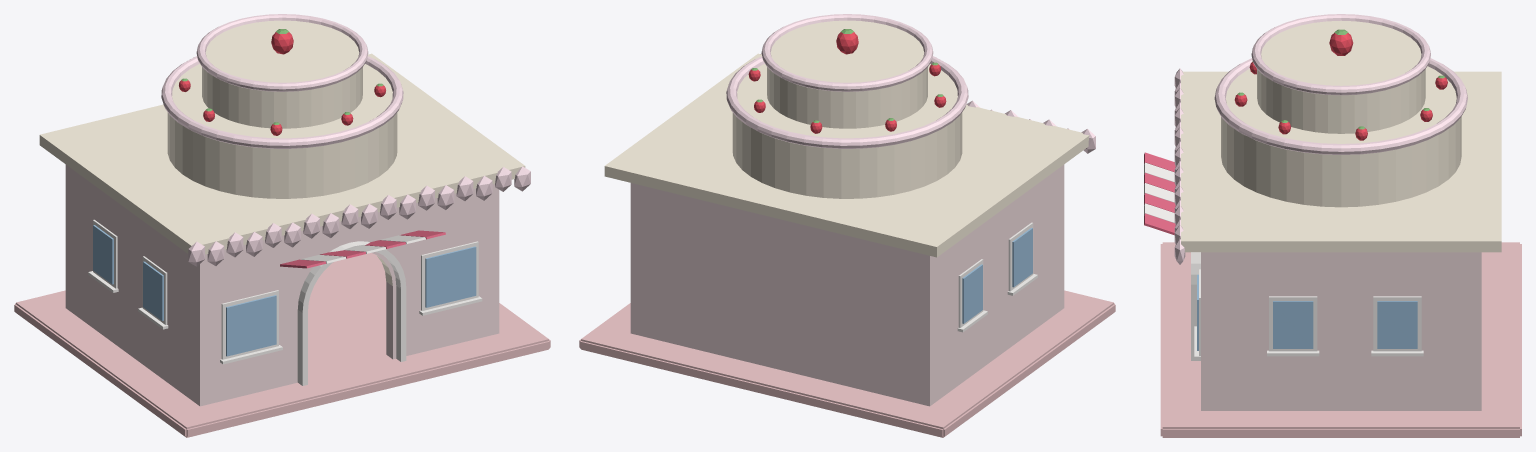
Rendered from HOB_Bld_CakeShop.fbx.
3 renders of one model, left to right at view 1: azimuth 30°, elevation 25°; view 2: azimuth 150°, elevation 25°; view 3: azimuth 270°, elevation 25°, orthographic. The views are drawn at different scales.
Visible parts, largest first — view 1: HOB_Bld_CakeShop; view 2: HOB_Bld_CakeShop; view 3: HOB_Bld_CakeShop.
Boxes of the visible parts, x1,y1,x2,y2 form: HOB_Bld_CakeShop: (14, 14, 550, 437); HOB_Bld_CakeShop: (579, 14, 1115, 437); HOB_Bld_CakeShop: (1144, 14, 1521, 437).
Size of the model in its own units: 1100 by 867 by 941.
